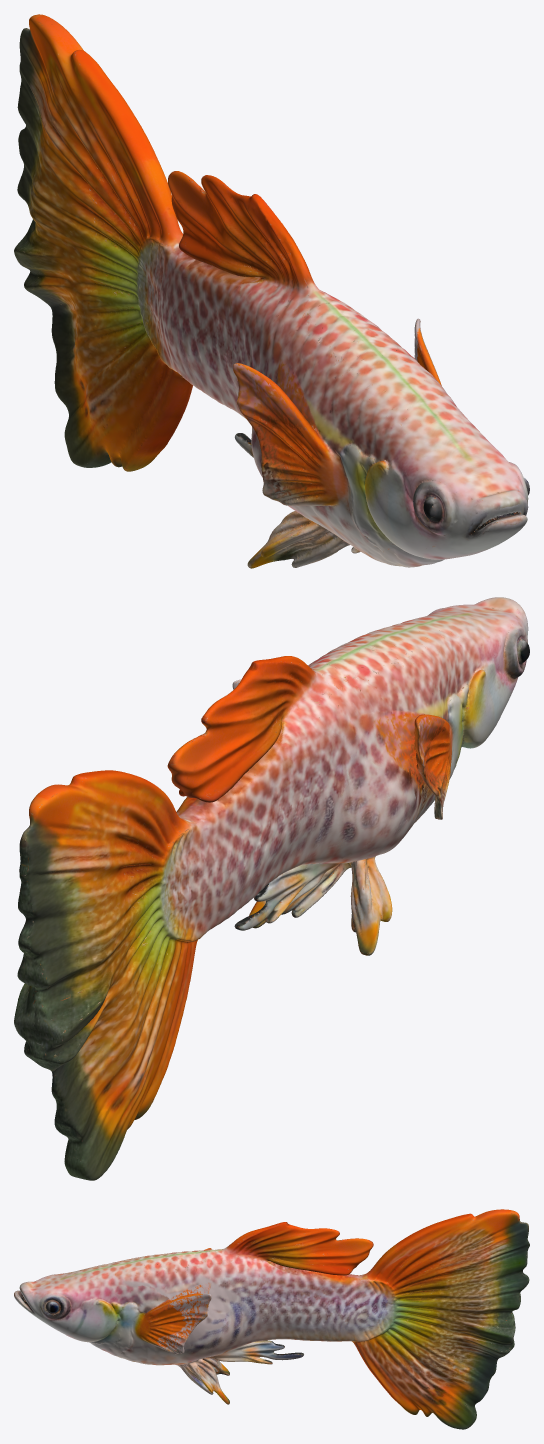
The model's file is guppy_red_snakeskin_fan_mesh.glb.
The picture shows the model from 3 angles, top to bottom: view 1: azimuth 30°, elevation 25°; view 2: azimuth 150°, elevation 25°; view 3: azimuth 270°, elevation 25°; orthographic projection. The views are drawn at different scales.
Parts seen in each view (by area): view 1: Mesh_0; view 2: Mesh_0; view 3: Mesh_0.
Part boxes in pixels (<box>): Mesh_0: <box>14,14,529,568</box>; Mesh_0: <box>14,597,529,1180</box>; Mesh_0: <box>14,1209,529,1429</box>.
Size of the model in its own units: 0.439 by 0.928 by 2.
1 material, 1 textured.
